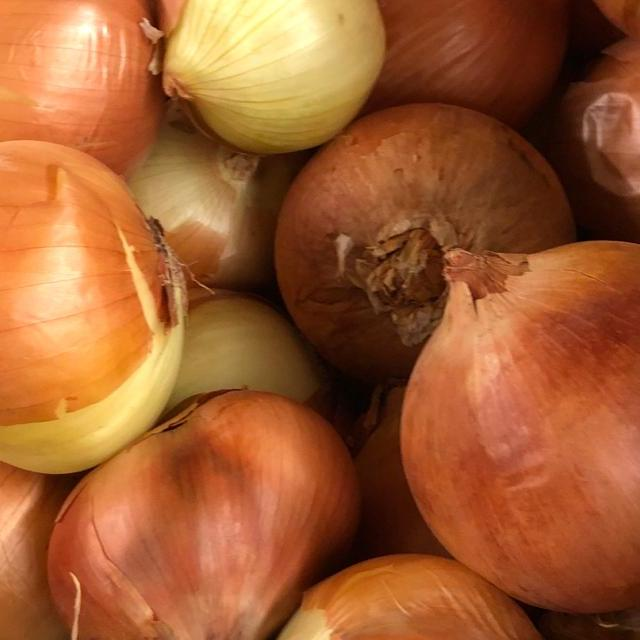onion: (395, 192, 640, 605), (22, 372, 365, 640), (0, 120, 210, 447), (152, 520, 600, 640), (150, 0, 395, 140), (0, 0, 175, 190)
